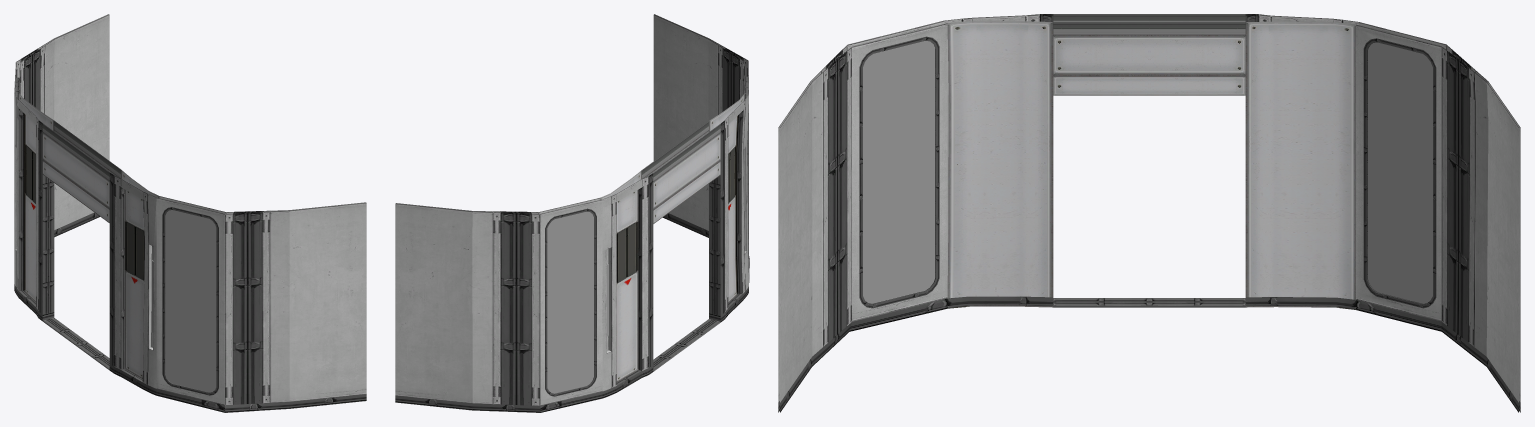
The model's file is Pre_Elevator_entc.fbx.
The picture shows the model from 3 angles, left to right: view 1: azimuth 30°, elevation 25°; view 2: azimuth 150°, elevation 25°; view 3: azimuth 270°, elevation 25°; orthographic projection. The views are drawn at different scales.
Parts seen in each view (by area): view 1: Pre_Elevator_entc; view 2: Pre_Elevator_entc; view 3: Pre_Elevator_entc.
Boxes of the visible parts, x1,y1,x2,y2 form: Pre_Elevator_entc: (14,14,366,412); Pre_Elevator_entc: (395,14,749,412); Pre_Elevator_entc: (778,14,1520,412).
Bounding box in the file's own units: 341 × 400 × 943.
4 materials, 2 textured.
